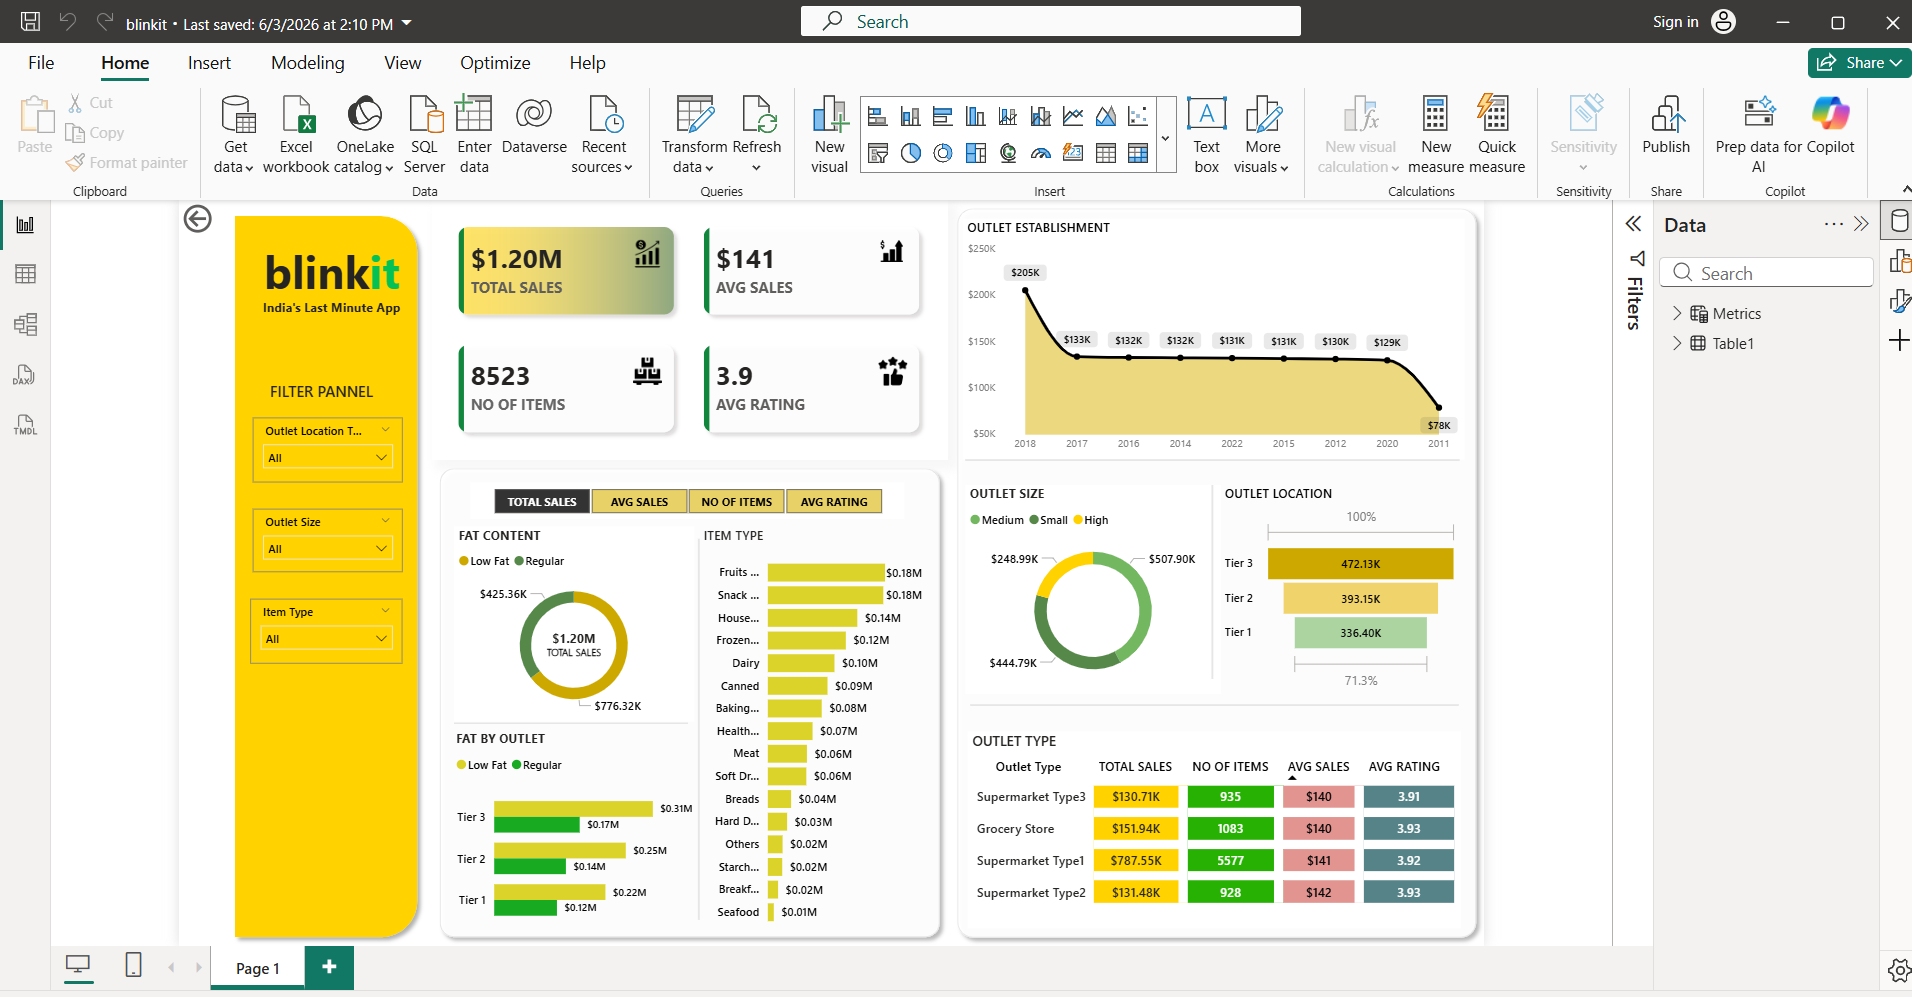

Layout of this report page (visuals, bound fields, positions):
{"tool":"powerbi","page":{"name":"Page 1","canvas":[1400,800],"ordinal":0},"visuals":[{"type":"shape","box":[50.7,7.9,213.8,791.7],"z":0},{"type":"textbox","box":[72.6,39.5,183.1,75.7],"z":1000},{"type":"textbox","box":[82.1,101,164.1,39.5],"z":2000},{"type":"actionButton","box":[0,0,100,40],"z":3000},{"type":"cardVisual","fields":{"Data":["Table1.TOTAL SALES","Table1.Avg Sales","Table1.No of Items","Table1.Avg Rating"]},"box":[271.4,0,553.9,279.3],"z":4000},{"type":"shape","box":[271.4,279.3,553.9,520.7],"z":5000},{"type":"donutChart","title":"FAT CONTENT","fields":{"Y":["Table1.TOTAL SALES"],"Category":["Table1.Item Fat Content"]},"box":[295.1,350.3,257.2,209.9],"z":6000},{"type":"slicer","fields":{"Values":["Metrics.Metrics"]},"box":[312.4,303,465.5,39.5],"z":7000},{"type":"cardVisual","fields":{"Data":["Table1.TOTAL SALES"]},"box":[377.1,456,94.7,41],"z":8000},{"type":"clusteredBarChart","title":"FAT BY OUTLET ","fields":{"Y":["Table1.TOTAL SALES"],"Category":["Table1.Outlet Location Type"],"Series":["Table1.Item Fat Content"]},"box":[291.9,568.1,265.1,224.1],"z":9000},{"type":"shape","box":[295.1,560.2,250.9,1.6],"z":10000},{"type":"shape","box":[478.1,362.9,157.8,408.7],"z":11000},{"type":"barChart","title":"ITEM TYPE","fields":{"Y":["Table1.TOTAL SALES"],"Category":["Table1.Item Type"]},"box":[557,350.3,244.6,438.7],"z":12000},{"type":"shape","box":[825.3,0,574.4,800.1],"z":13000},{"type":"lineChart","title":"OUTLET ESTABLISHMENT","fields":{"Category":["Table1.Outlet Establishment Year"],"Y":["Table1.TOTAL SALES"]},"box":[841.1,20.5,538.1,258.8],"z":14000},{"type":"shape","box":[842.7,269.8,530.2,18.9],"z":15000},{"type":"donutChart","title":"OUTLET SIZE","fields":{"Y":["Table1.TOTAL SALES"],"Category":["Table1.Outlet Size"]},"box":[842.7,306.1,274.6,224.1],"z":16000},{"type":"shape","box":[1003.6,306.1,208.3,208.3],"z":17000},{"type":"funnel","title":"OUTLET LOCATION ","fields":{"Y":["Sum(Table1.Sales)"],"Category":["Table1.Outlet Location Type"]},"box":[1117.2,306.1,260.4,225.7],"z":18000},{"type":"shape","box":[849,531.8,523.9,18.9],"z":19000},{"type":"pivotTable","title":"OUTLET TYPE ","fields":{"Values":["Table1.TOTAL SALES","Table1.NO OF ITEMS","Table1.AVG SALES","Table1.AVG RATING"],"Rows":["Table1.Outlet Type"]},"box":[845.8,569.7,528.6,211.5],"z":20000},{"type":"slicer","fields":{"Values":["Table1.Outlet Location Type"]},"box":[79.1,233.2,160.9,69.7],"z":21000},{"type":"slicer","fields":{"Values":["Table1.Outlet Size"]},"box":[79.1,331.1,160.9,68.4],"z":22000},{"type":"slicer","fields":{"Values":["Table1.Item Type"]},"box":[76.4,427.6,163.5,69.7],"z":23000},{"type":"textbox","box":[91.8,188.4,147.3,44.3],"z":24000}]}

Visuals, with their boxes on the page's 1400x800 design canvas (x1, y1, x2, y2). These are canvas units, not pixel positions in the 1912x997 screenshot, which may show the page scaled, cropped or inside an application window:
shape: 51:8:264:800
textbox: 73:40:256:115
textbox: 82:101:246:140
actionButton: 0:0:100:40
cardVisual - Table1.TOTAL SALES x Table1.Avg Sales: 271:0:825:279
shape: 271:279:825:800
"FAT CONTENT" donutChart: 295:350:552:560
slicer - Metrics.Metrics: 312:303:778:342
cardVisual - Table1.TOTAL SALES: 377:456:472:497
"FAT BY OUTLET " clusteredBarChart: 292:568:557:792
shape: 295:560:546:562
shape: 478:363:636:772
"ITEM TYPE" barChart: 557:350:802:789
shape: 825:0:1400:800
"OUTLET ESTABLISHMENT" lineChart: 841:20:1379:279
shape: 843:270:1373:289
"OUTLET SIZE" donutChart: 843:306:1117:530
shape: 1004:306:1212:514
"OUTLET LOCATION " funnel: 1117:306:1378:532
shape: 849:532:1373:551
"OUTLET TYPE " pivotTable: 846:570:1374:781
slicer - Table1.Outlet Location Type: 79:233:240:303
slicer - Table1.Outlet Size: 79:331:240:400
slicer - Table1.Item Type: 76:428:240:497
textbox: 92:188:239:233
